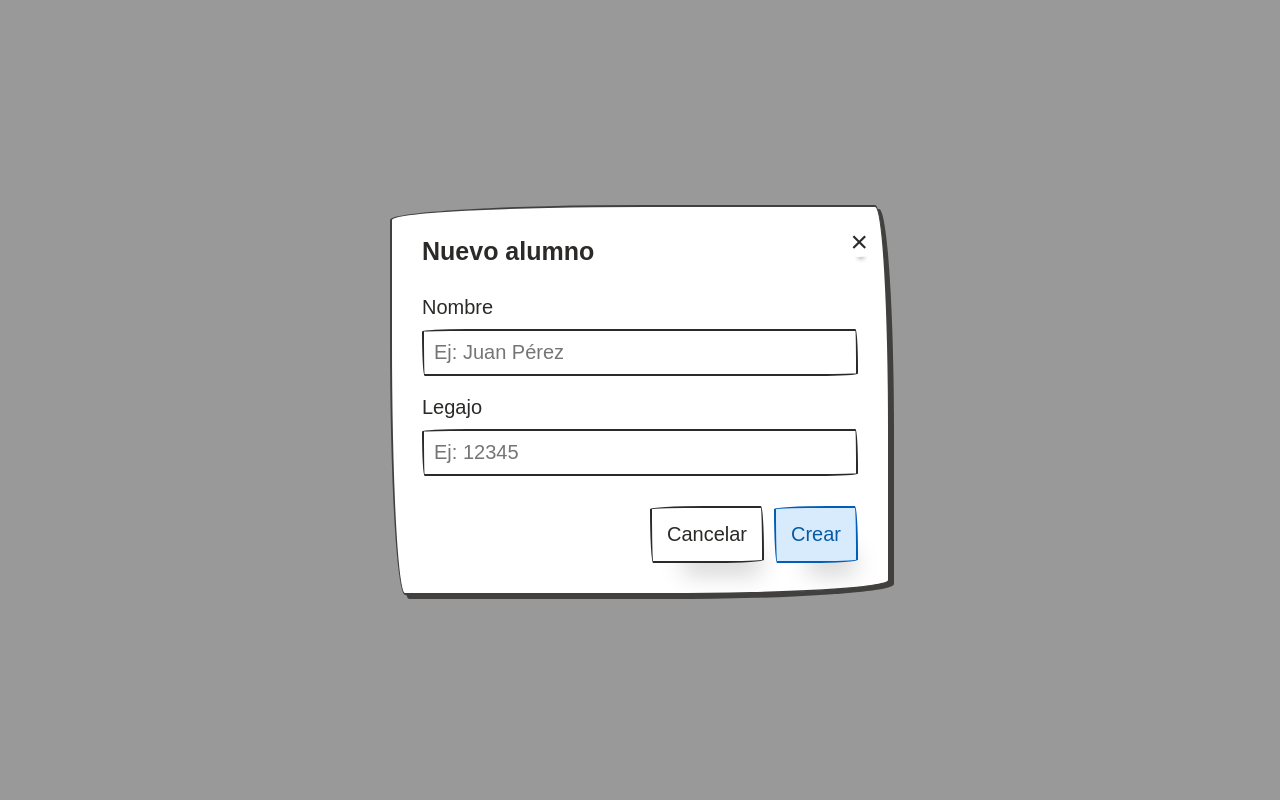
renders the server error and stays open when the legajo is rejected
Type "Ana Nueva" into the field with test id "person-name-input".
click(640, 352); type("Ana Nueva")  # box [422, 329, 858, 376]
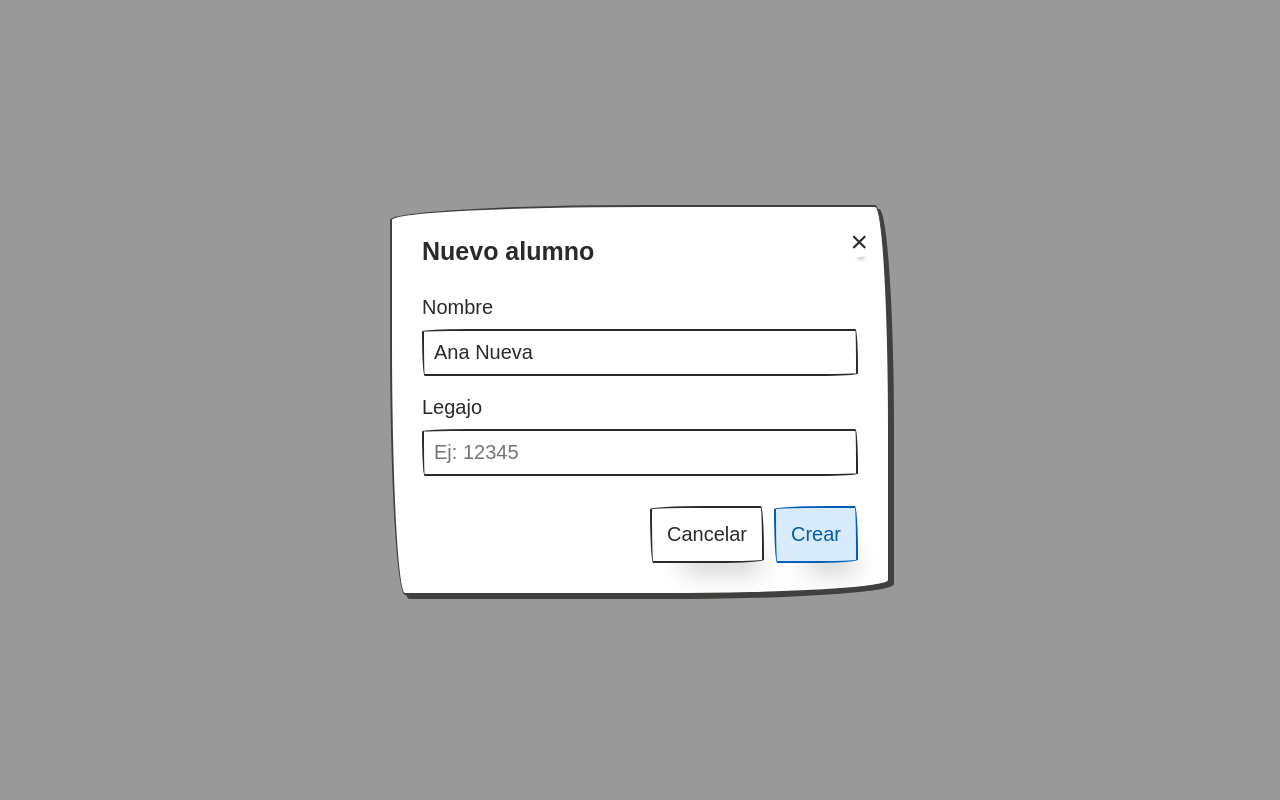
Type "LEG-100" into the field with test id "person-legajo-input".
click(640, 452); type("LEG-100")  # box [422, 429, 858, 476]
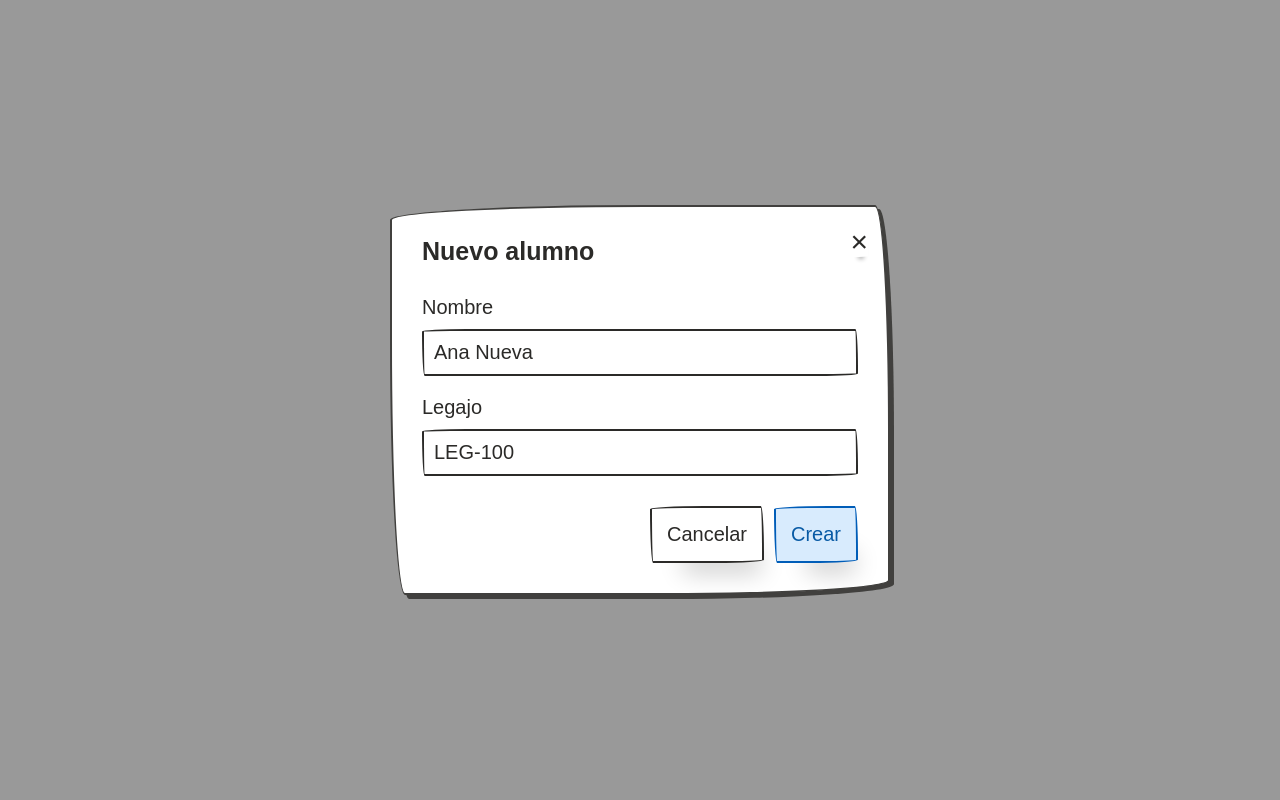
Click the button with test id "submit-btn".
click(816, 534)  # box [774, 506, 858, 563]
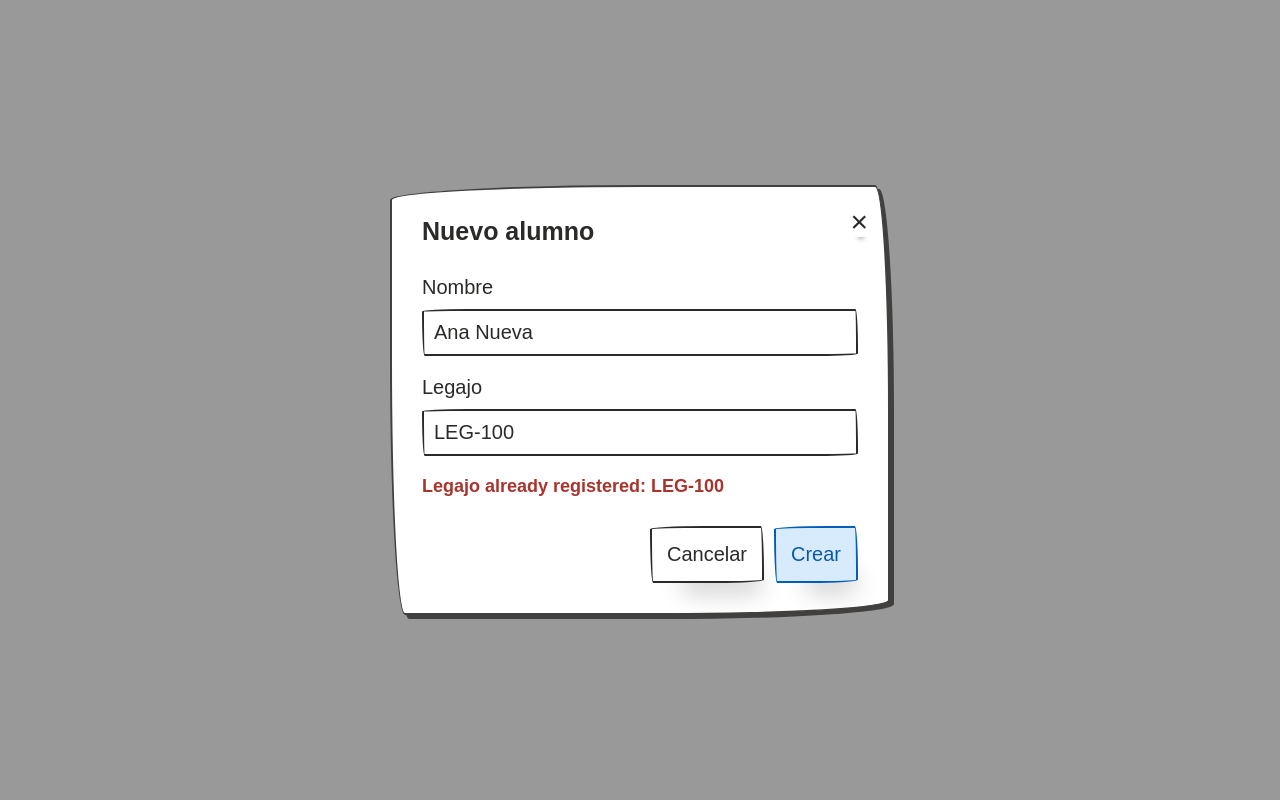
Check: the message with test id "person-server-error" shows "Legajo already registered", box [422, 476, 724, 496]
